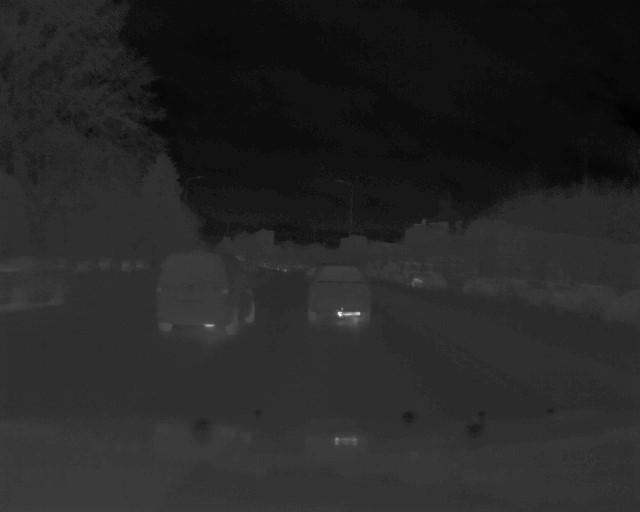car: (153, 251, 258, 334), (305, 265, 373, 323)
